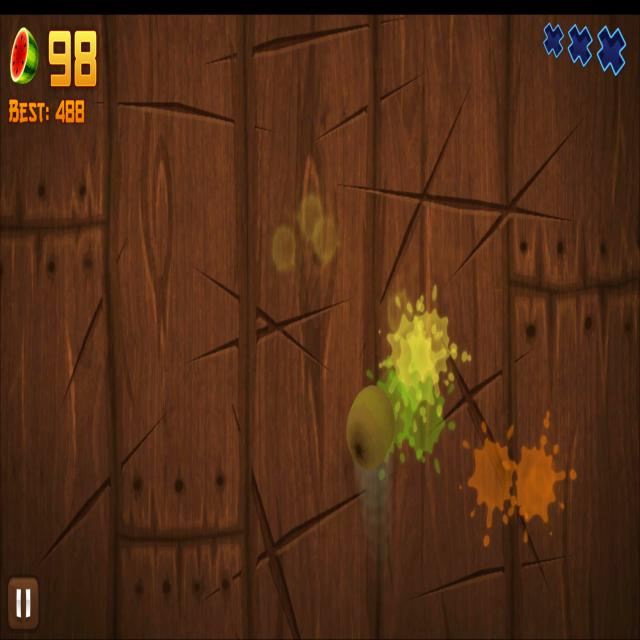fruit: (346, 384, 395, 472)
